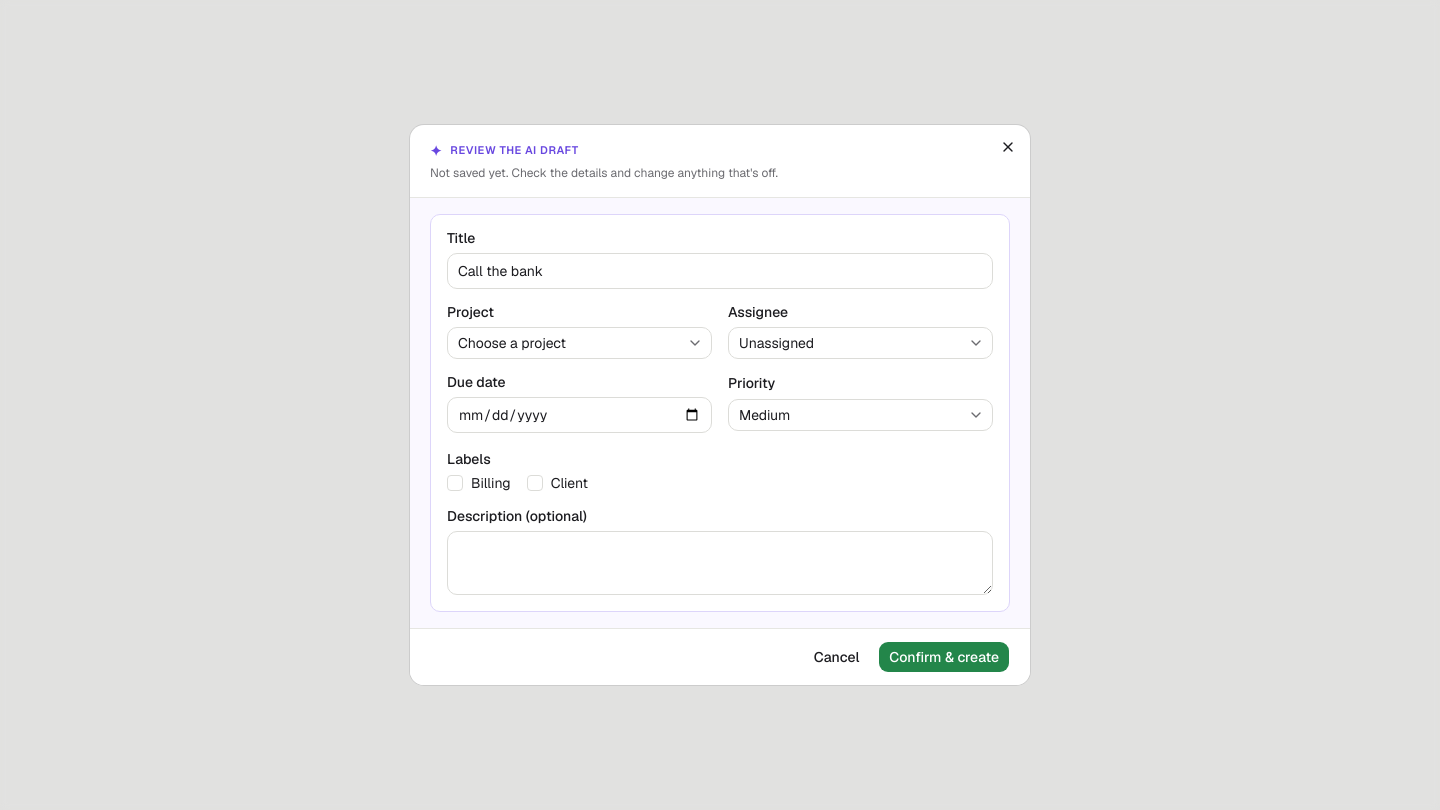
Test: QuickAddPreview › asks for a project when the AI couldn't pick one
The image size is (1440, 810).
Click the button "Confirm & create" at (944, 657), box [878,641,1010,673]
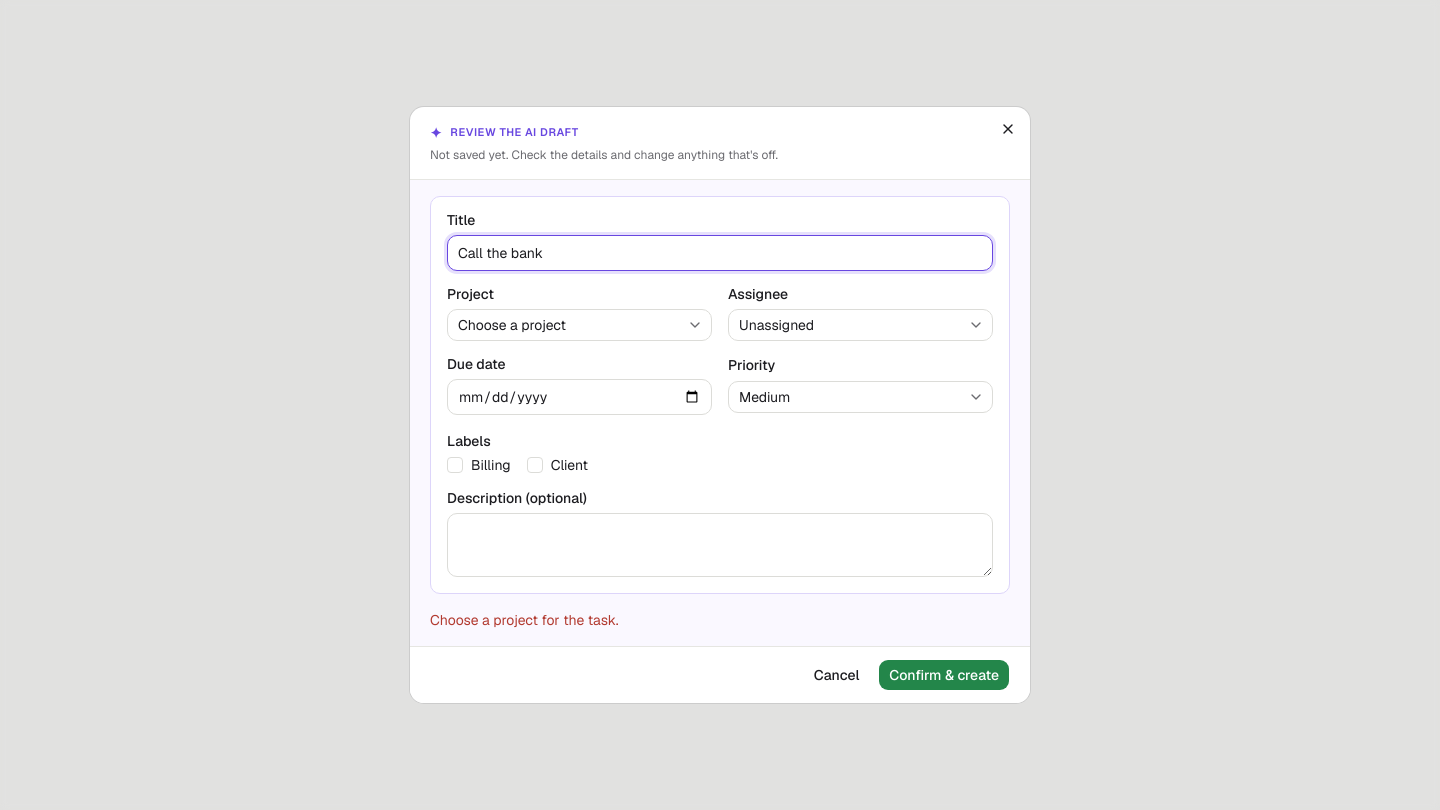
Check: the message shows "Choose a project", box [430,611,619,629]
